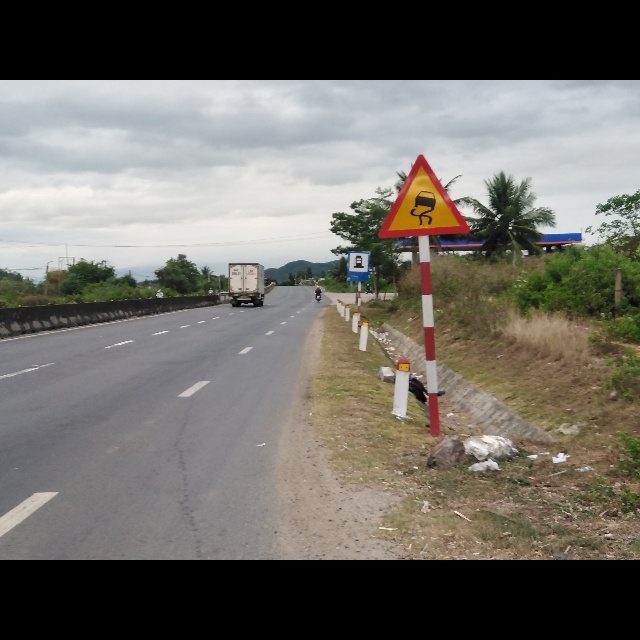Đường trơn trượt: (376, 153, 475, 241)
